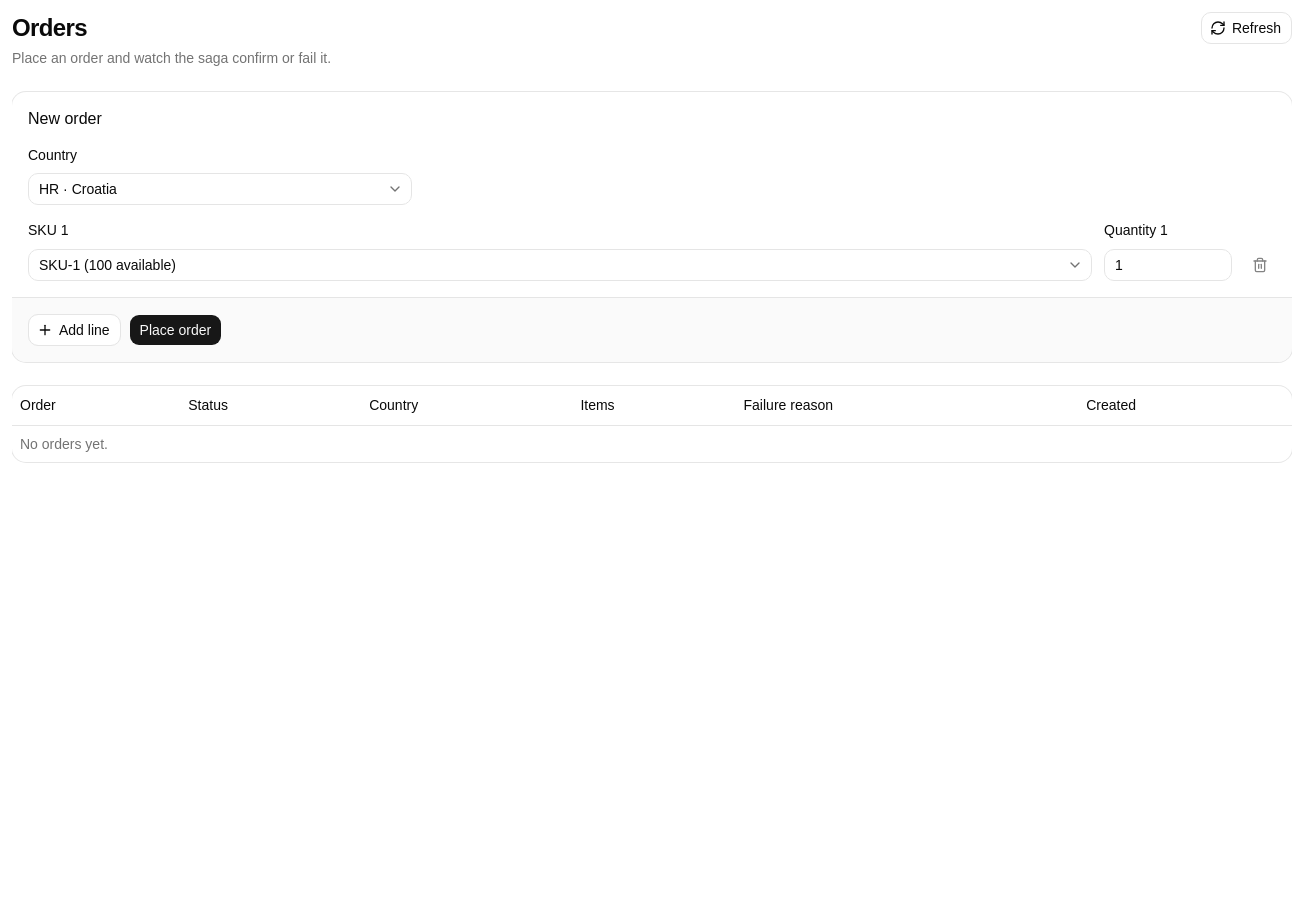
Test: OrdersRoute › surfaces the server validation message when the order is rejected
expect the number field labelled "Quantity 1" is shown: met, box [1104, 248, 1232, 280]
Step 1. Click the button "Place order" → (175, 330), box [129, 314, 222, 346]
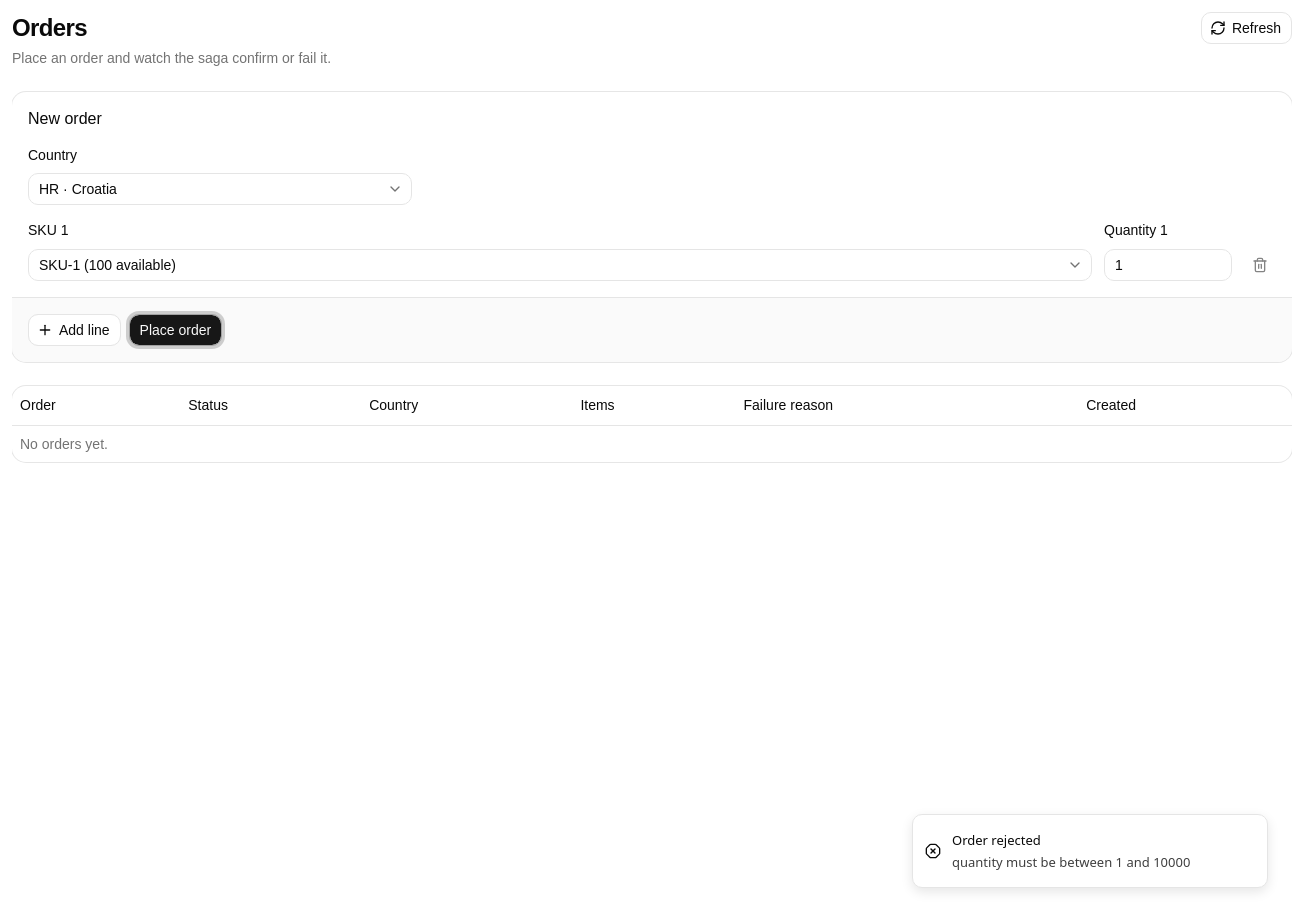
expect the text "Order rejected" is shown: met, box [952, 831, 1041, 849]
expect the text "quantity must be between 1 and 10000" is shown: met, box [952, 853, 1190, 871]
